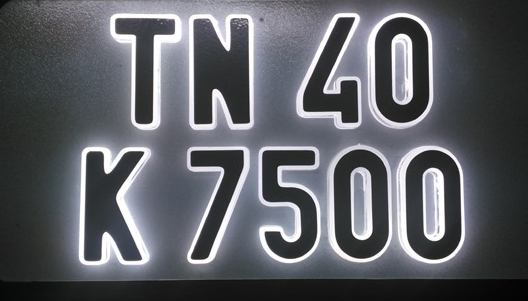0: (397, 144, 470, 264), (366, 12, 437, 128), (328, 144, 392, 263)
4: (297, 11, 369, 130)
5: (254, 145, 324, 264)
7: (182, 142, 250, 264)
K: (78, 143, 155, 265)
N: (185, 12, 254, 129)
T: (109, 9, 179, 129)
